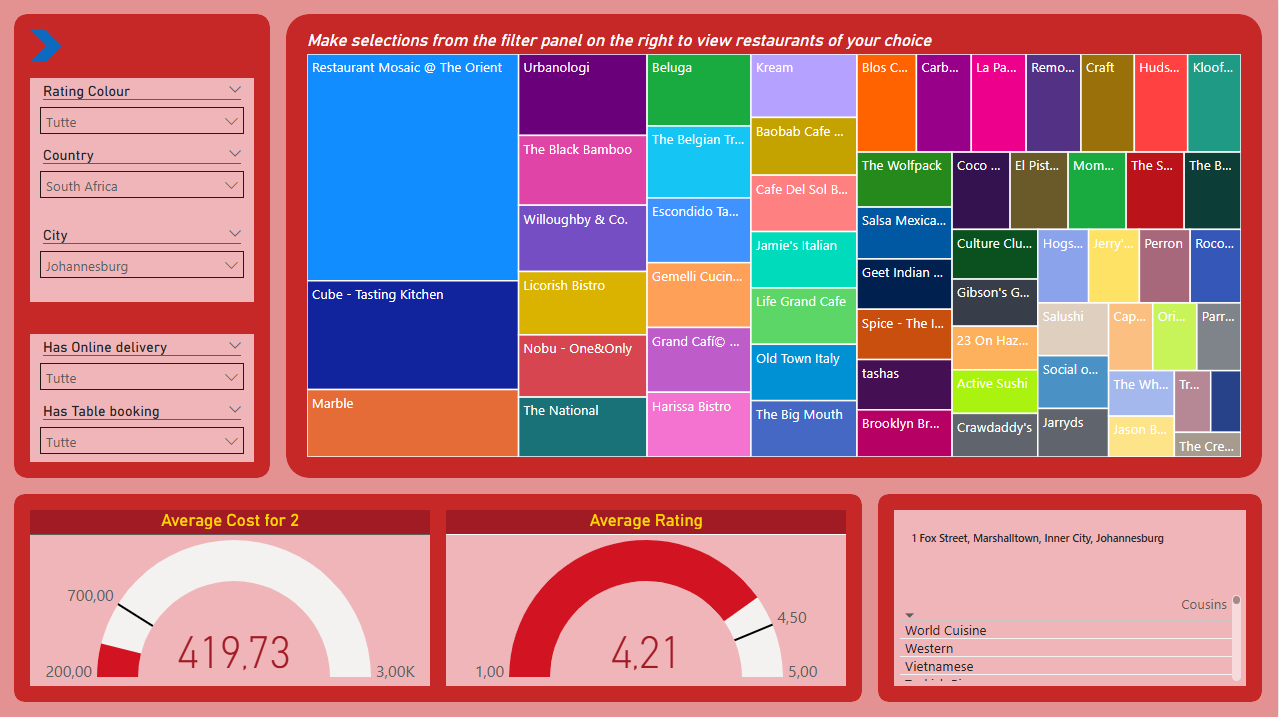

Layout of this report page (visuals, bound fields, positions):
{"tool":"powerbi","page":{"name":"Restaurant Details","canvas":[1280,720],"ordinal":1},"visuals":[{"type":"shape","box":[880,496,384,208],"z":0},{"type":"shape","box":[16,496,848,208],"z":1000},{"type":"shape","box":[288,16,976,464],"z":2000},{"type":"shape","box":[16,16,256,464],"z":3000},{"type":"slicer","fields":{"Values":["KPIs.Rating Colour"]},"box":[32,80,224,64],"z":4000},{"type":"slicer","fields":{"Values":["Country.Country"]},"box":[32,144,224,80],"z":5000},{"type":"slicer","fields":{"Values":["Restaurants.City"]},"box":[32,224,224,80],"z":6000},{"type":"slicer","fields":{"Values":["KPIs.Has Online delivery"]},"box":[32,336,224,64],"z":7000},{"type":"slicer","fields":{"Values":["KPIs.Has Table booking"]},"box":[32,400,224,64],"z":8000},{"type":"gauge","fields":{"Y":["KPIs.Average Rating"]},"box":[448,512,400,176],"z":9000},{"type":"gauge","title":"Average Cost for 2","fields":{"Y":["KPIs.Average Cost"]},"box":[32,512,400,176],"z":10000},{"type":"cardVisual","fields":{"Data":["Min(Restaurants.Restaurant Address)"]},"box":[896,512,352,80],"z":11000},{"type":"tableEx","fields":{"Values":["Cuisines.Cuisine"]},"box":[896,592,352,96],"z":12000},{"type":"treemap","title":"Make selections from the filter panel on the right to view restaurants of your choice","fields":{"Group":["Restaurants.Restaurant Name"],"Values":["KPIs.Average Cost"]},"box":[304,32,944,432],"z":13000},{"type":"shape","box":[32,32,32,32],"z":14000}]}

Visuals, with their boxes in screenshot pixels (x1, y1, x2, y2), scaled from the page's 1280x720 canvas onto the 1279x717 screenshot:
shape: {"left": 879, "top": 494, "right": 1263, "bottom": 701}
shape: {"left": 16, "top": 494, "right": 863, "bottom": 701}
shape: {"left": 288, "top": 16, "right": 1263, "bottom": 478}
shape: {"left": 16, "top": 16, "right": 272, "bottom": 478}
slicer - KPIs.Rating Colour: {"left": 32, "top": 80, "right": 256, "bottom": 143}
slicer - Country.Country: {"left": 32, "top": 143, "right": 256, "bottom": 223}
slicer - Restaurants.City: {"left": 32, "top": 223, "right": 256, "bottom": 303}
slicer - KPIs.Has Online delivery: {"left": 32, "top": 335, "right": 256, "bottom": 398}
slicer - KPIs.Has Table booking: {"left": 32, "top": 398, "right": 256, "bottom": 462}
gauge - KPIs.Average Rating: {"left": 448, "top": 510, "right": 847, "bottom": 685}
"Average Cost for 2" gauge: {"left": 32, "top": 510, "right": 432, "bottom": 685}
cardVisual - Min(Restaurants.Restaurant Address): {"left": 895, "top": 510, "right": 1247, "bottom": 590}
tableEx - Cuisines.Cuisine: {"left": 895, "top": 590, "right": 1247, "bottom": 685}
"Make selections from the filter panel on the right to view restaurants of your choice" treemap: {"left": 304, "top": 32, "right": 1247, "bottom": 462}
shape: {"left": 32, "top": 32, "right": 64, "bottom": 64}
